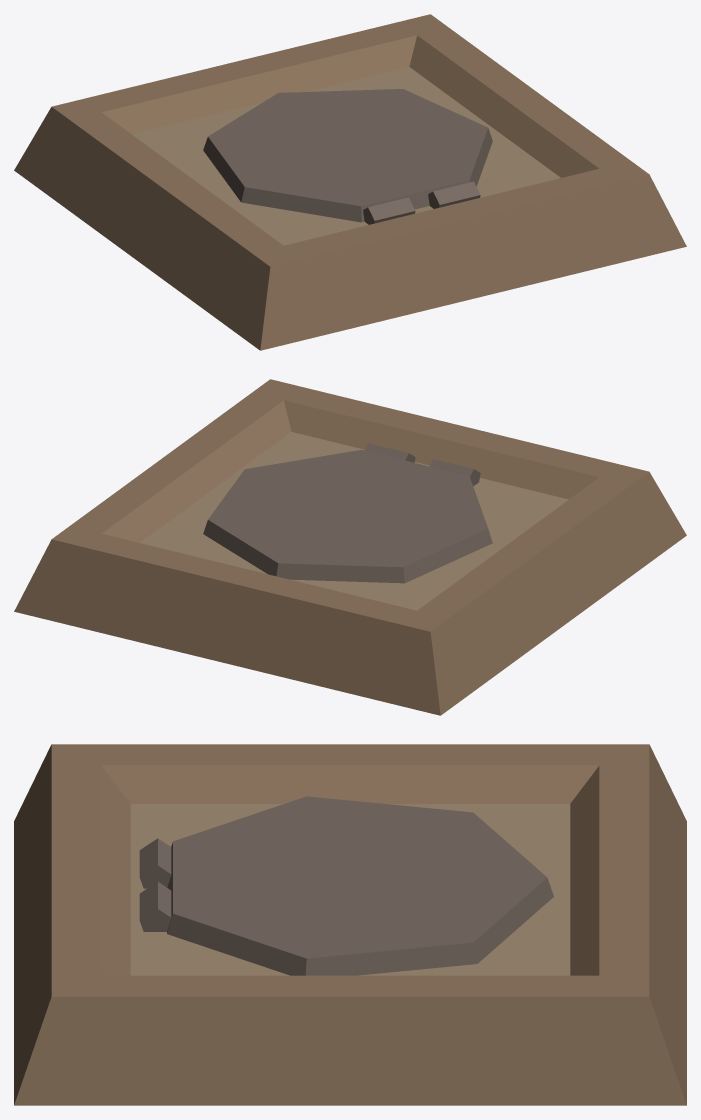
File: LP_PostApoc_Hatch.fbx
The picture shows the model from 3 angles, top to bottom: view 1: azimuth 30°, elevation 25°; view 2: azimuth 150°, elevation 25°; view 3: azimuth 270°, elevation 25°; orthographic projection. The views are drawn at different scales.
Parts seen in each view (by area): view 1: Hatch; view 2: Hatch; view 3: Hatch.
Part boxes in pixels (x1,y1,x2,y2): Hatch: (14, 14, 686, 350); Hatch: (14, 379, 686, 715); Hatch: (14, 744, 686, 1105).
Bounding box in the file's own units: 133 × 20.22 × 133.
